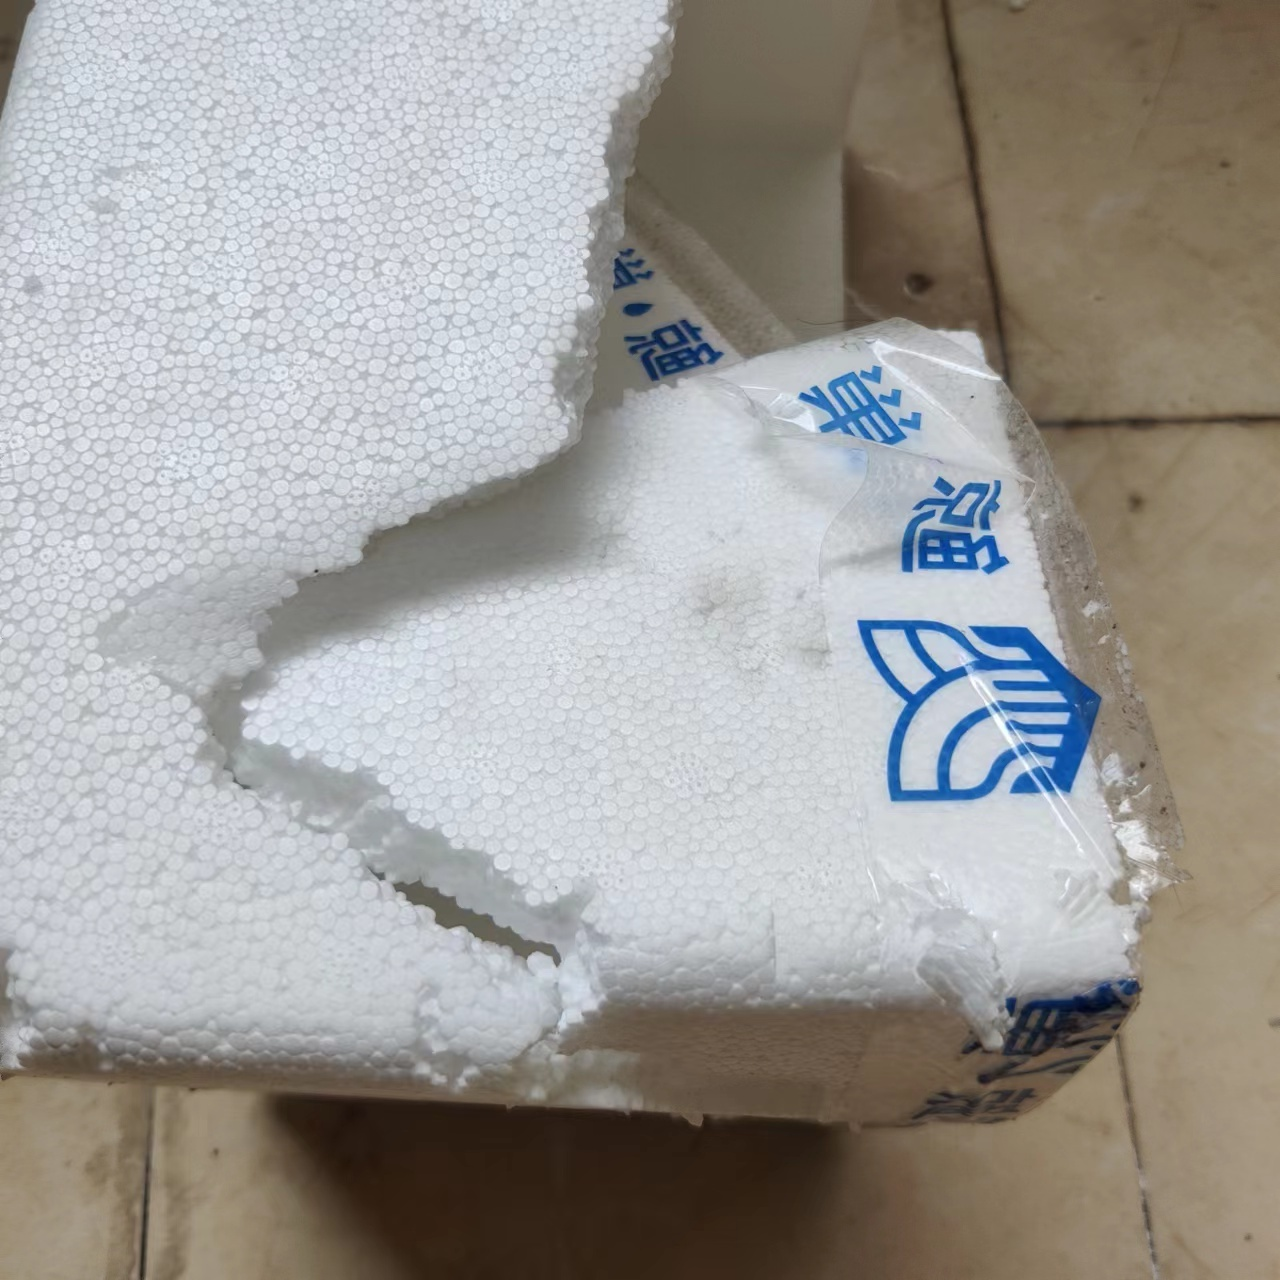5/可回收垃圾/泡沫: (1, 1, 1143, 1139)
